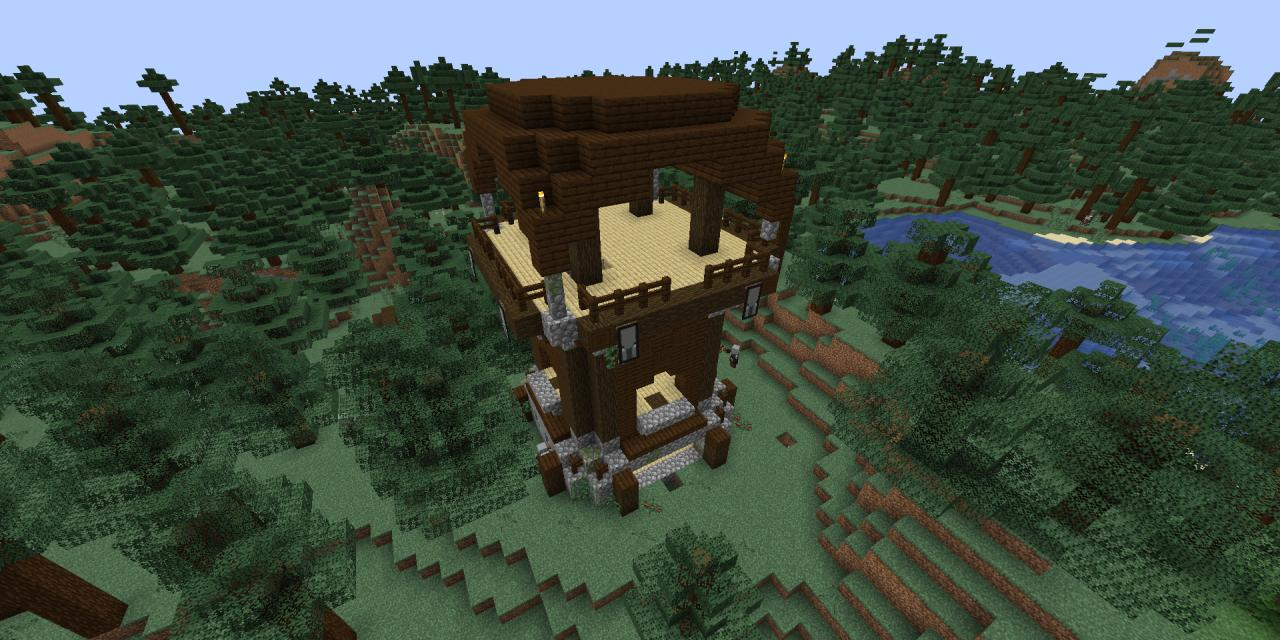pillager outpost: (447, 60, 806, 522)
